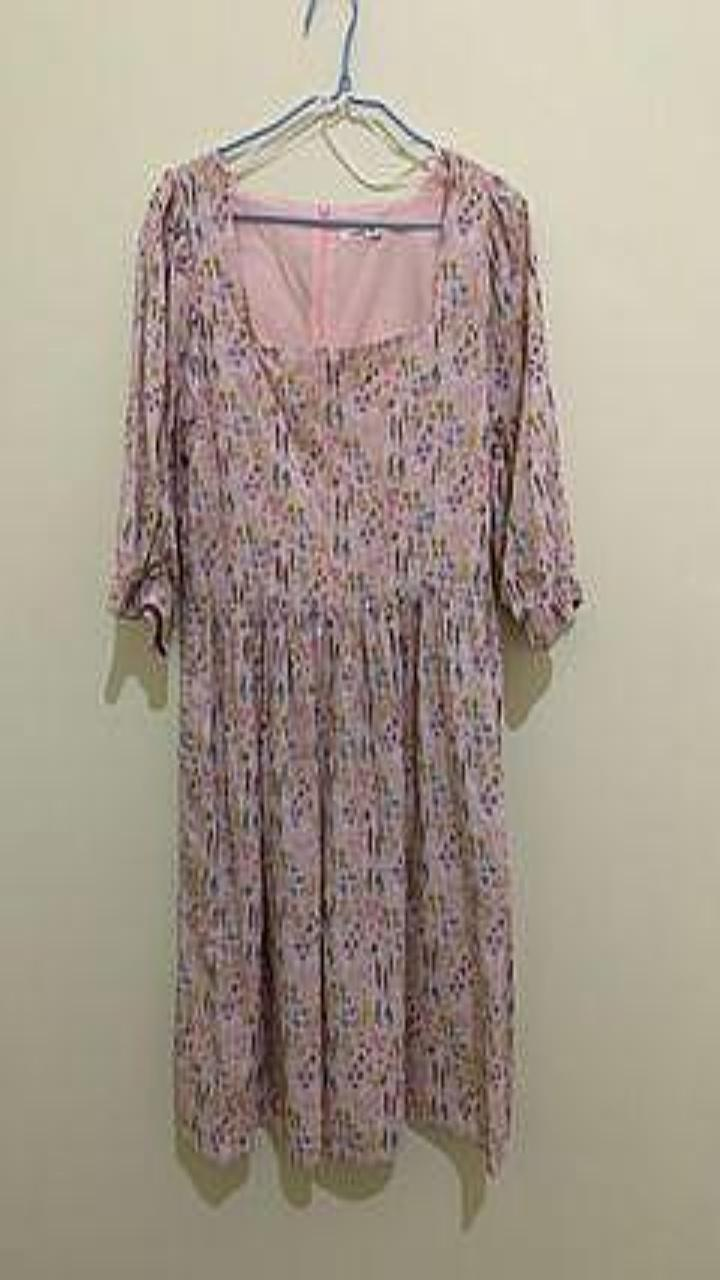Dresses: (108, 147, 582, 1174)
